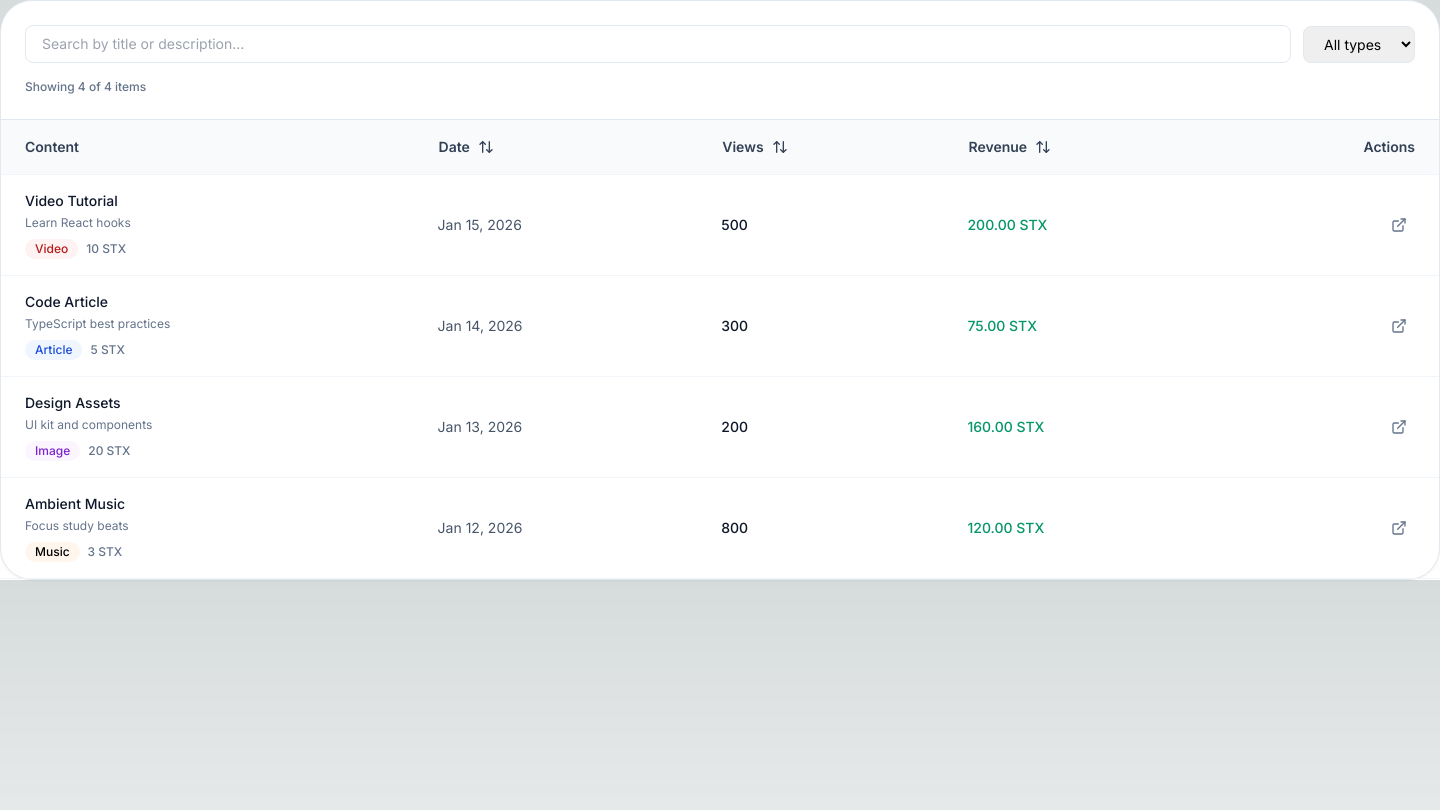
Test: ContentBrowser Integration Tests › combines search and filter operations
Apply type filter first
Step 1. Select "Article" in the dropdown named "filter" → [1359, 44], box [1303,26,1415,62]
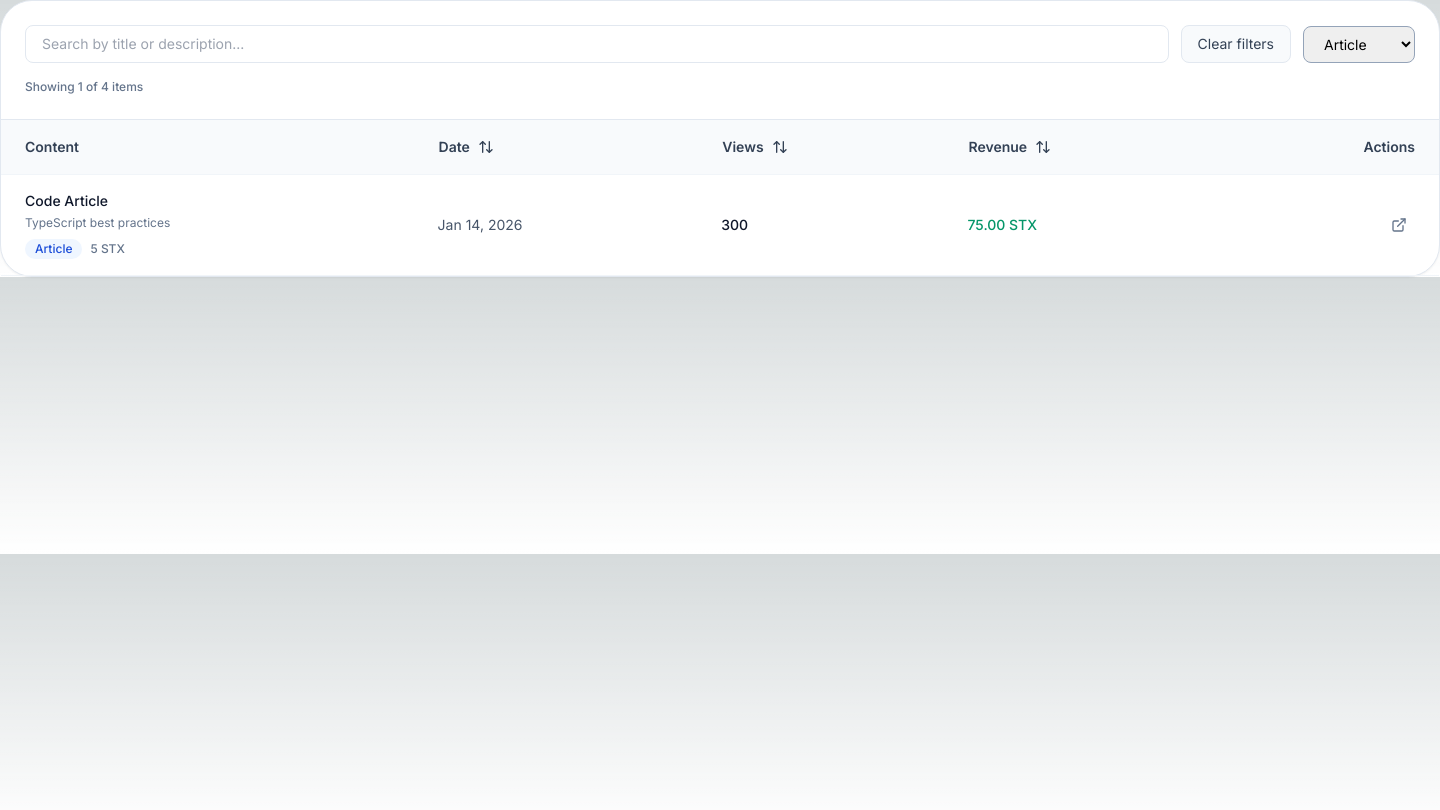
Expected: the text "Code Article" is shown, [25,192,108,209]
Expected: the text "Showing 1 of 4 items" is shown, [25,79,143,94]
Now apply search
Step 2. Type "typescript" into the field with placeholder "Search by title or description..." → [597, 44], box [25,25,1169,63]
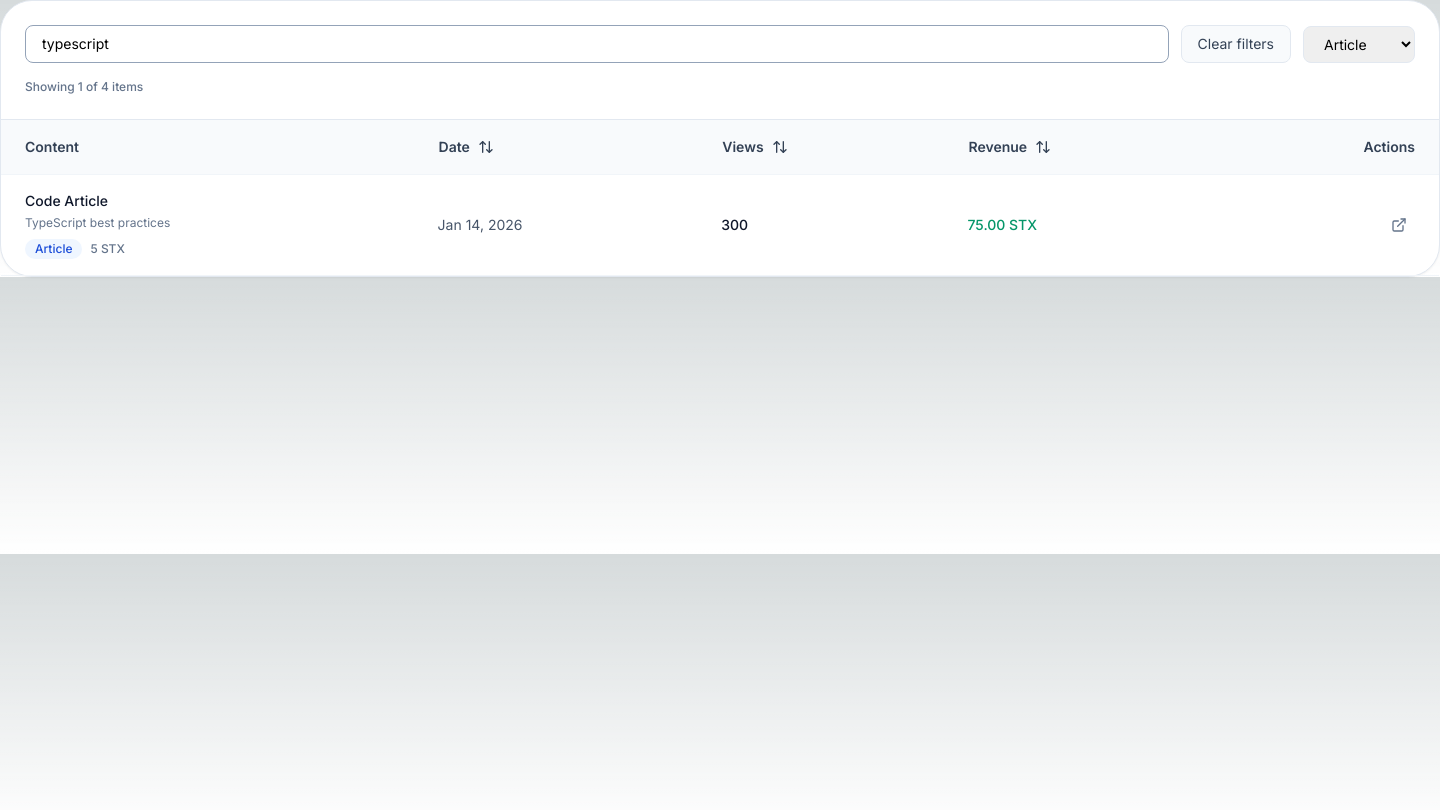
Expected: the text "Code Article" is shown, [25,192,108,209]
Expected: the text "Showing 1 of 4 items" is shown, [25,79,143,94]
Search for something that doesn't match
Step 3. Replace the text in the field with placeholder "Search by title or description..." with "video" → [597, 44], box [25,25,1169,63]
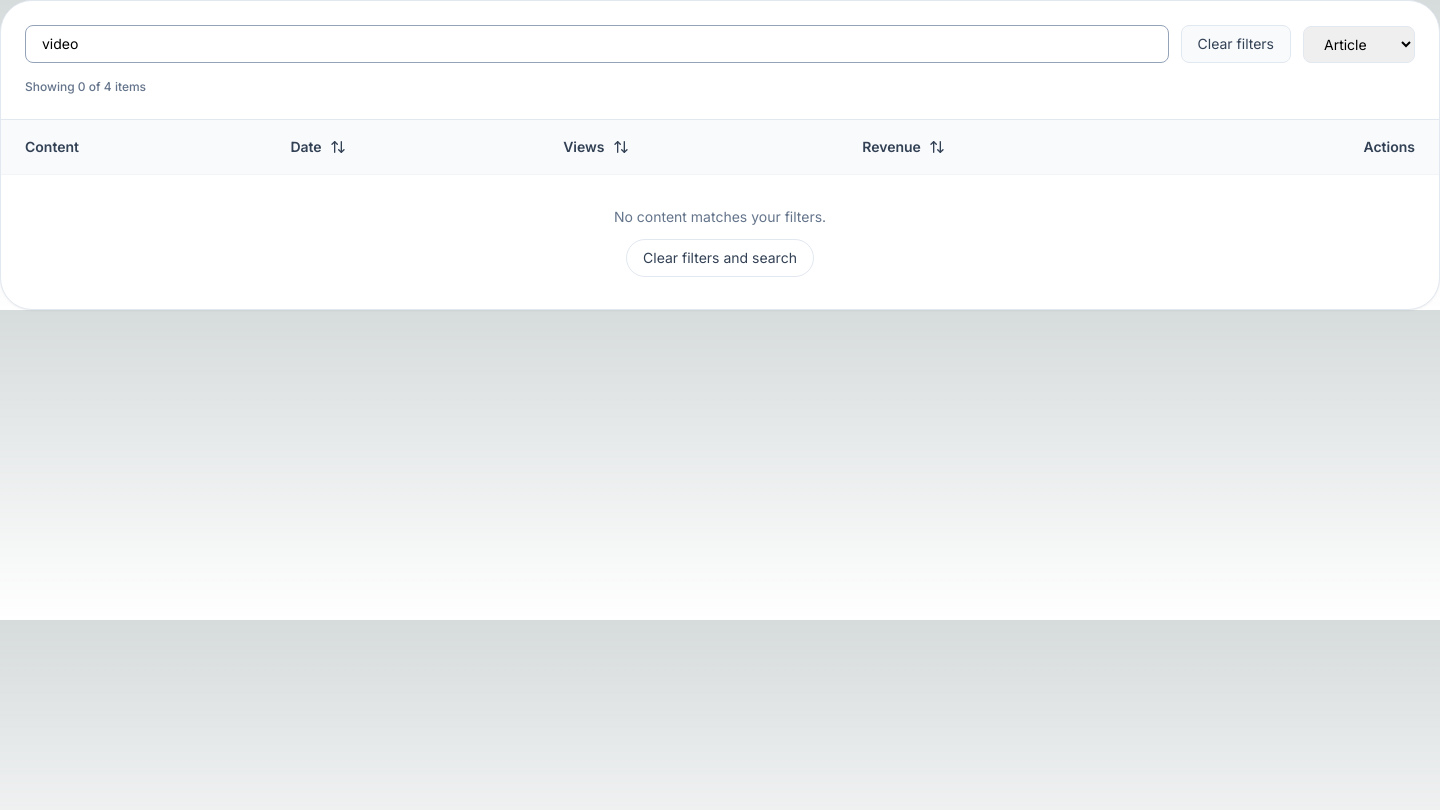
Expected: the text "Code Article" is gone
Expected: the text "Showing 0 of 4 items" is shown, [25,79,146,94]
